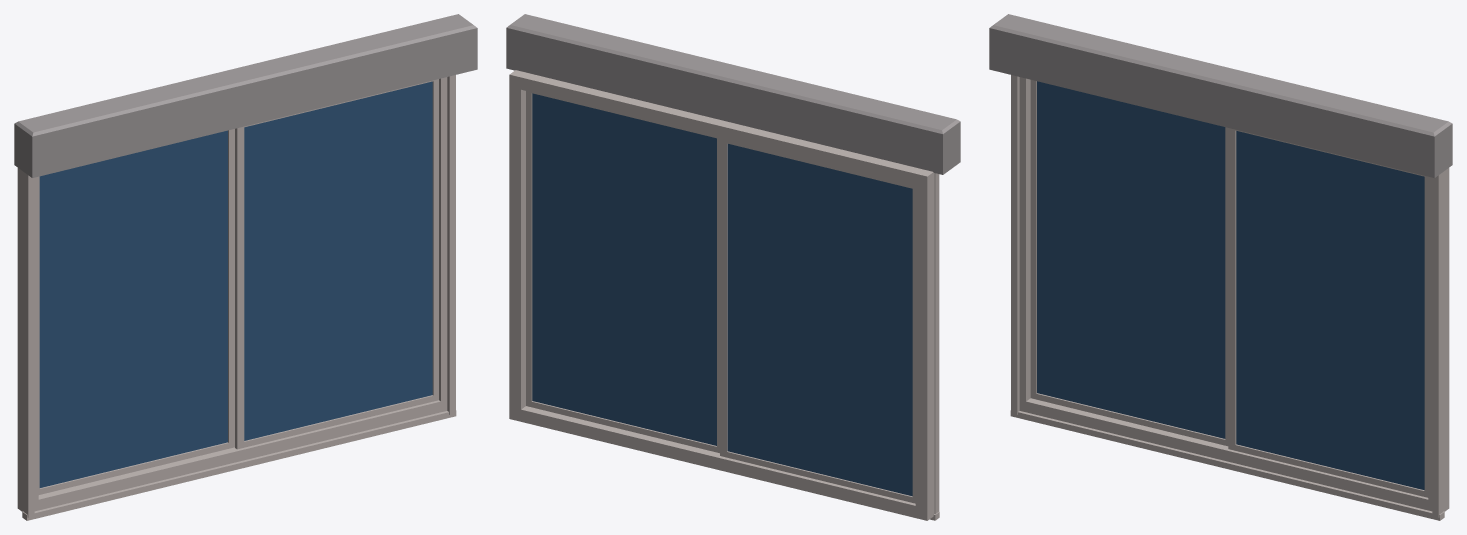
Rendered from SM_Opening_Window25620_Shutter_01.gltf.
The picture shows the model from 3 angles, left to right: view 1: azimuth 30°, elevation 25°; view 2: azimuth 150°, elevation 25°; view 3: azimuth 330°, elevation 25°; orthographic projection.
Visible parts, largest first — view 1: SM_Opening_Window25620_Shutter_01; view 2: SM_Opening_Window25620_Shutter_01; view 3: SM_Opening_Window25620_Shutter_01.
Boxes of the visible parts, <box> form: SM_Opening_Window25620_Shutter_01: <box>14,14,477,520</box>; SM_Opening_Window25620_Shutter_01: <box>506,14,960,520</box>; SM_Opening_Window25620_Shutter_01: <box>989,14,1452,520</box>.
Bounding box in the file's own units: 2.8 × 2.39 × 0.265.
Materials: 1 (1 with a texture image).
